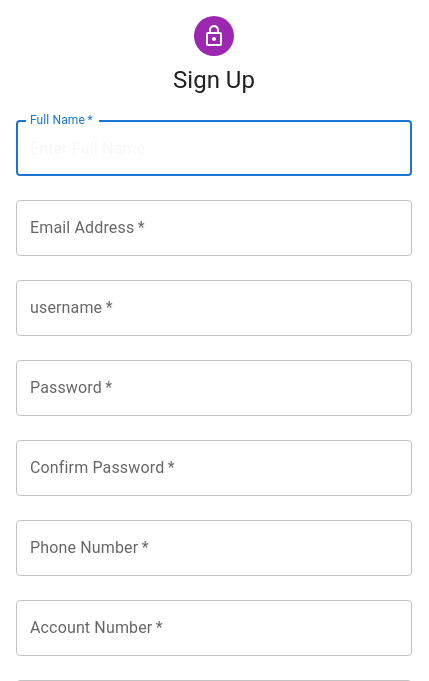
SignUpPage component › displays error if password and confirm password are not same
Type "Dev@12345" into the password field with placeholder "Enter Password".
click(214, 388); type("Dev@12345")  # box [16,360,412,416]
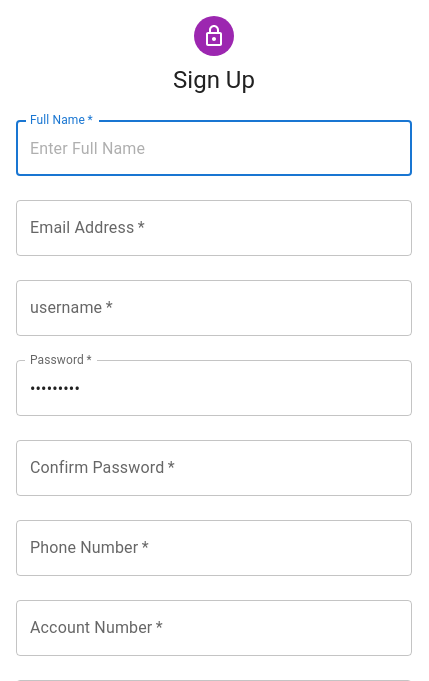
Type "Dev@1234" into the password field with placeholder "Confirm Password".
click(214, 468); type("Dev@1234")  # box [16,440,412,496]
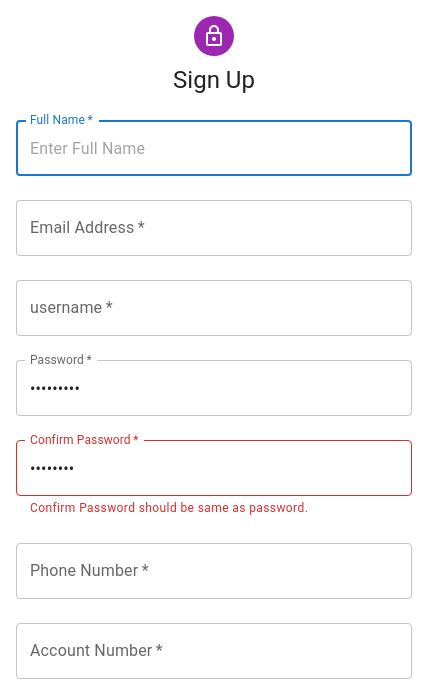
Result: the text "Confirm Password should be same as password." is shown at [30,501,308,515]
